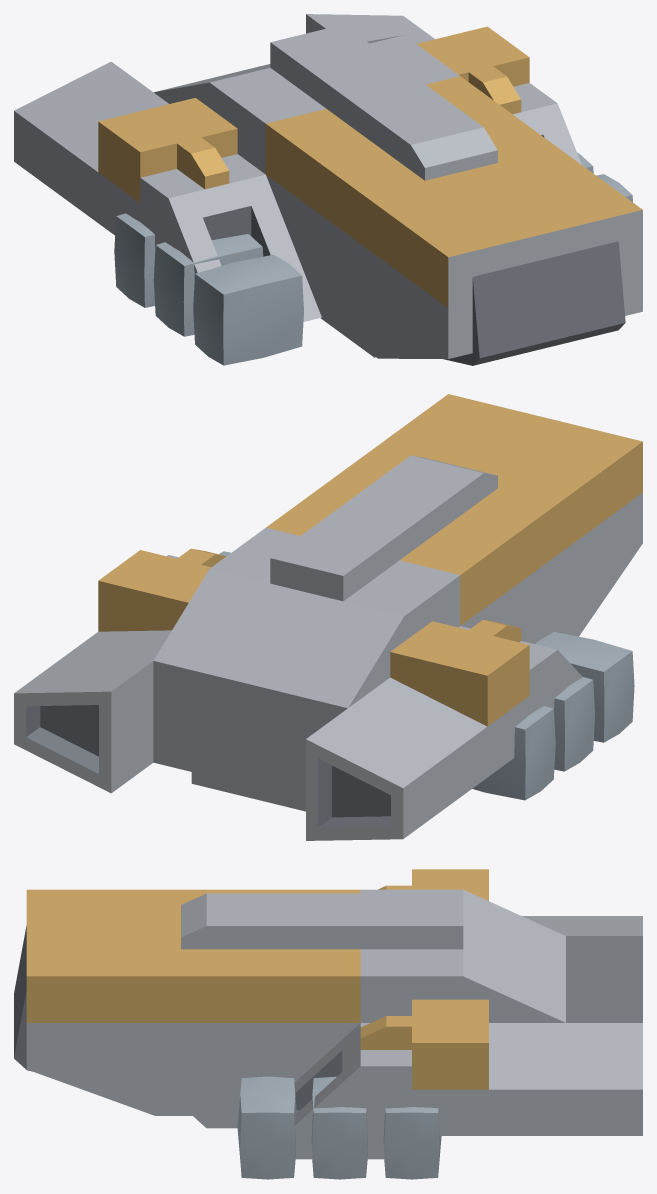
Rendered from npc_cargo.glb.
3 renders of one model, top to bottom at view 1: azimuth 30°, elevation 25°; view 2: azimuth 150°, elevation 25°; view 3: azimuth 270°, elevation 25°, orthographic. The views are drawn at different scales.
Parts seen in each view (by area): view 1: npc_cargo; view 2: npc_cargo; view 3: npc_cargo.
Part boxes in pixels (x1,y1,x2,y2): npc_cargo: (14,14,642,365); npc_cargo: (14,394,642,840); npc_cargo: (14,869,642,1179).
Bounding box in the file's own units: 1.16 × 0.5418 × 1.66.
